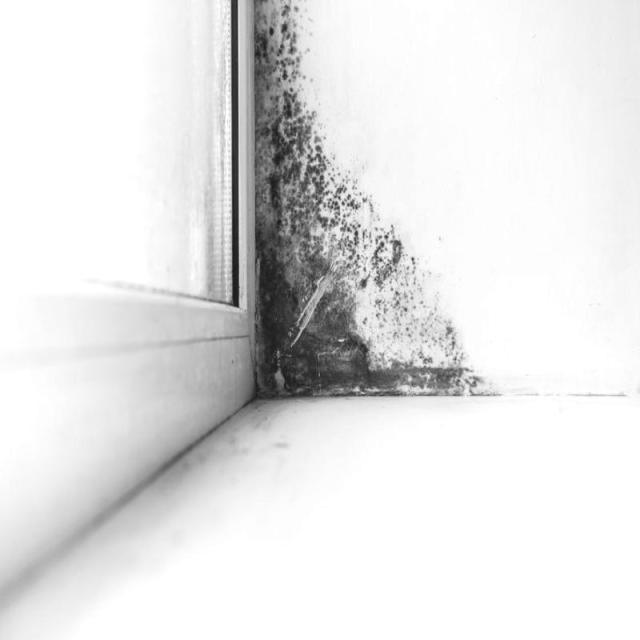stain marks: (228, 0, 514, 424)
